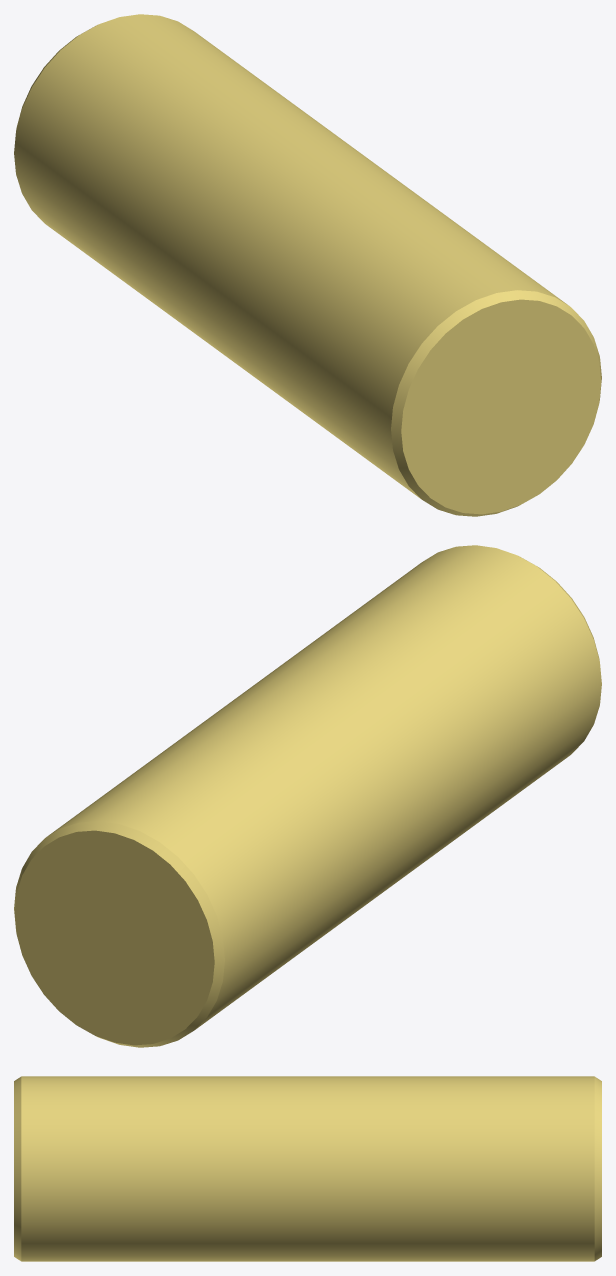
Rendered from shell.fbx.
The picture shows the model from 3 angles, top to bottom: view 1: azimuth 30°, elevation 25°; view 2: azimuth 150°, elevation 25°; view 3: azimuth 270°, elevation 25°; orthographic projection. The views are drawn at different scales.
Visible parts, largest first — view 1: shell; view 2: shell; view 3: shell.
Part boxes in pixels (x1=…): shell: x1=14, y1=14, x2=601, y2=516; shell: x1=14, y1=545, x2=601, y2=1047; shell: x1=14, y1=1076, x2=601, y2=1261.
Size of the model in its own units: 9.91 by 9.91 by 31.45.
